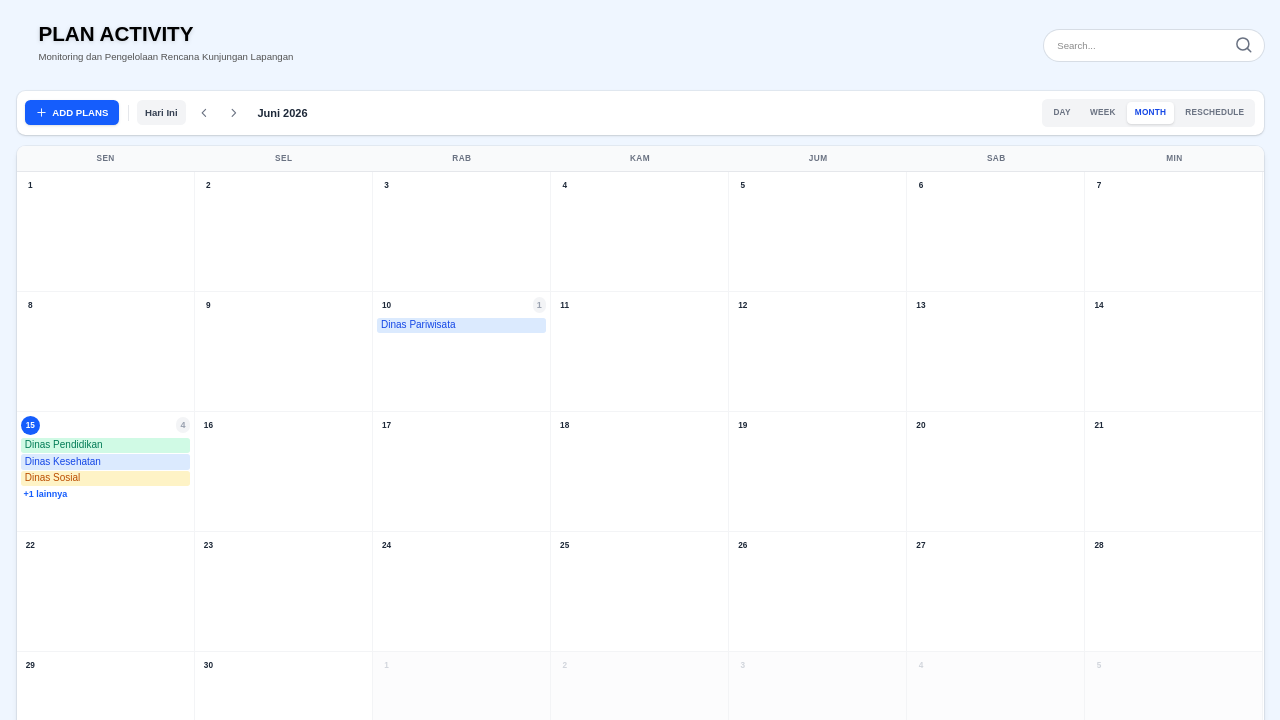
Scenario: PlanActivityPage — Popup daftar plan & detail › klik ikon Eye pada item popup membuka detail plan dengan data yang benar
The image size is (1280, 720).
Step 1. Click the text "Dinas Pendidikan" → [105, 445], box [21, 438, 190, 453]
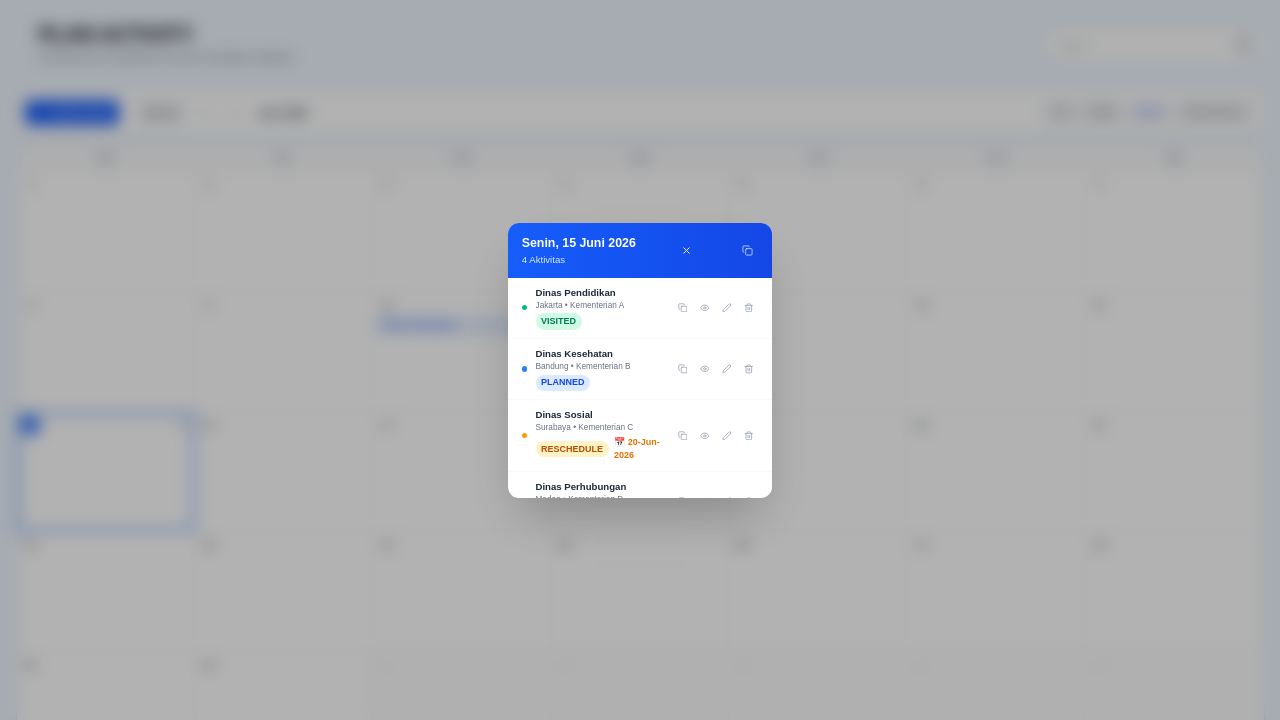
Step 2. Click the button titled "Lihat Detail" next to "• Kementerian A" → [705, 308], box [695, 298, 714, 317]
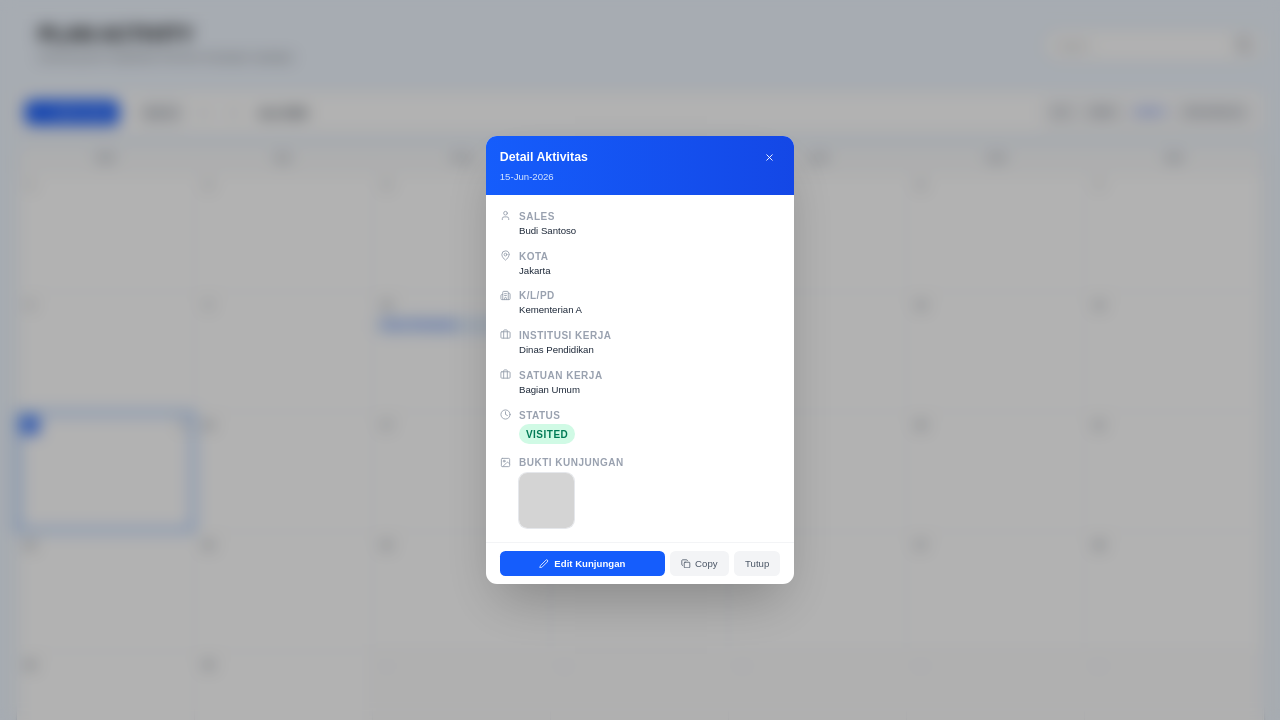
Expected: the text "Jakarta" is shown, [519, 264, 550, 277]
Expected: the heading "Detail Aktivitas" is shown, [500, 148, 588, 168]
Expected: the text "Budi Santoso" is shown, [519, 224, 576, 238]
